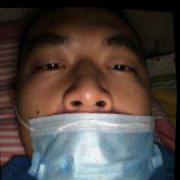WRONG: (7, 6, 164, 180)
